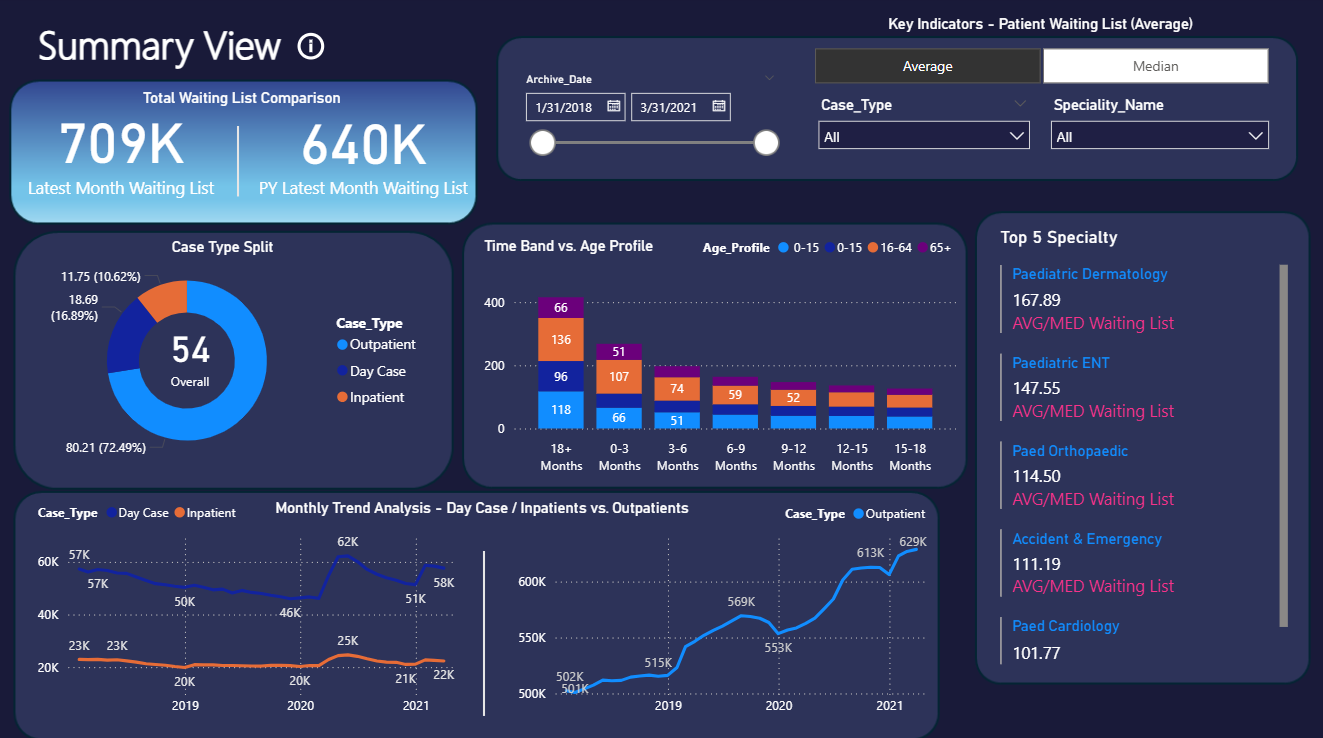

Layout of this report page (visuals, bound fields, positions):
{"tool":"powerbi","page":{"name":"Summary","canvas":[1280,720],"ordinal":0},"visuals":[{"type":"card","fields":{"Values":["All_Data.Latest Month Waiting List"]},"box":[21.8,90,192.2,111.8],"z":0},{"type":"card","fields":{"Values":["All_Data.PY Latest Month Waiting List"]},"box":[240,91.4,223.6,110.4],"z":1000},{"type":"slicer","fields":{"Values":["Calculation Methos.Calc Method"]},"box":[760.8,43.6,488.1,47.7],"z":2000},{"type":"donutChart","fields":{"Category":["All_Data.Case_Type"],"Y":["All_Data.AVG/Med Waiting List"]},"box":[32,240,384,224],"z":3000},{"type":"columnChart","fields":{"Y":["All_Data.AVG/Med Waiting List"],"Category":["All_Data.Time_Bands"],"Series":["All_Data.Age_Profile"]},"box":[463.6,223.6,466.3,245.4],"z":4000},{"type":"multiRowCard","fields":{"Values":["All_Data.AVG/Med Waiting List","All_Data.Speciality_Name"]},"box":[961.2,255,287.7,395.4],"z":5000},{"type":"card","fields":{"Values":["All_Data.NoDataLeft"]},"box":[80.8,524.8,271.4,136.3],"z":6000},{"type":"lineChart","fields":{"Y":["Sum(All_Data.Total)"],"Category":["All_Data.Archive_Date"],"Series":["All_Data.Case_Type"]},"box":[32.6,479,415,224.4],"z":7000},{"type":"card","fields":{"Values":["All_Data.NoDataRight"]},"box":[551.3,535.7,271.4,136.3],"z":8000},{"type":"lineChart","fields":{"Y":["Sum(All_Data.Total)"],"Category":["All_Data.Archive_Date"],"Series":["All_Data.Case_Type"]},"box":[495.8,480.2,407.8,223.2],"z":9000},{"type":"slicer","fields":{"Values":["All_Data.Archive_Date"]},"box":[495.8,68.8,265.4,101.3],"z":10000},{"type":"slicer","fields":{"Values":["All_Data.Case_Type"]},"box":[780.6,91.7,224.4,78.4],"z":11000},{"type":"slicer","fields":{"Values":["All_Data.Speciality_Name"]},"box":[1005,91.7,230.4,73.6],"z":12000},{"type":"textbox","box":[32,16,320,64],"z":13000},{"type":"card","fields":{"Values":["All_Data.AVG/MED Waiting List"]},"box":[144.8,304,79.6,83.2],"z":14000},{"type":"shape","box":[192.2,125.4,77.7,68.2],"z":15000},{"type":"textbox","box":[463.6,226.3,216.8,28.6],"z":16000},{"type":"textbox","box":[261.8,479.9,418.6,28.6],"z":17000},{"type":"shape","box":[440.4,535.7,55.5,159.3],"z":18000},{"type":"textbox","box":[133.6,84.5,300,28.6],"z":19000},{"type":"textbox","box":[961,217,182,37],"z":20000},{"type":"textbox","box":[162.3,227.7,139.1,28.6],"z":21000},{"type":"card","fields":{"Values":["All_Data.Dynamic Title"]},"box":[845.3,6.8,319,40.9],"z":22000},{"type":"actionButton","box":[283.5,27.7,35,41],"z":23000}]}

Visuals, with their boxes in screenshot pixels (x1, y1, x2, y2), scaled from the page's 1280x720 canvas onto the 1323x738 screenshot:
card - All_Data.Latest Month Waiting List: 23/92/221/207
card - All_Data.PY Latest Month Waiting List: 248/94/479/207
slicer - Calculation Methos.Calc Method: 786/45/1291/94
donutChart - All_Data.Case_Type x All_Data.AVG/Med Waiting List: 33/246/430/476
columnChart - All_Data.AVG/Med Waiting List x All_Data.Time_Bands: 479/229/961/481
multiRowCard - All_Data.AVG/Med Waiting List x All_Data.Speciality_Name: 993/261/1291/667
card - All_Data.NoDataLeft: 84/538/364/678
lineChart - Sum(All_Data.Total) x All_Data.Archive_Date: 34/491/463/721
card - All_Data.NoDataRight: 570/549/850/689
lineChart - Sum(All_Data.Total) x All_Data.Archive_Date: 512/492/934/721
slicer - All_Data.Archive_Date: 512/71/787/174
slicer - All_Data.Case_Type: 807/94/1039/174
slicer - All_Data.Speciality_Name: 1039/94/1277/169
textbox: 33/16/364/82
card - All_Data.AVG/MED Waiting List: 150/312/232/397
shape: 199/129/279/198
textbox: 479/232/703/261
textbox: 271/492/703/521
shape: 455/549/513/712
textbox: 138/87/448/116
textbox: 993/222/1181/260
textbox: 168/233/312/263
card - All_Data.Dynamic Title: 874/7/1203/49
actionButton: 293/28/329/70
